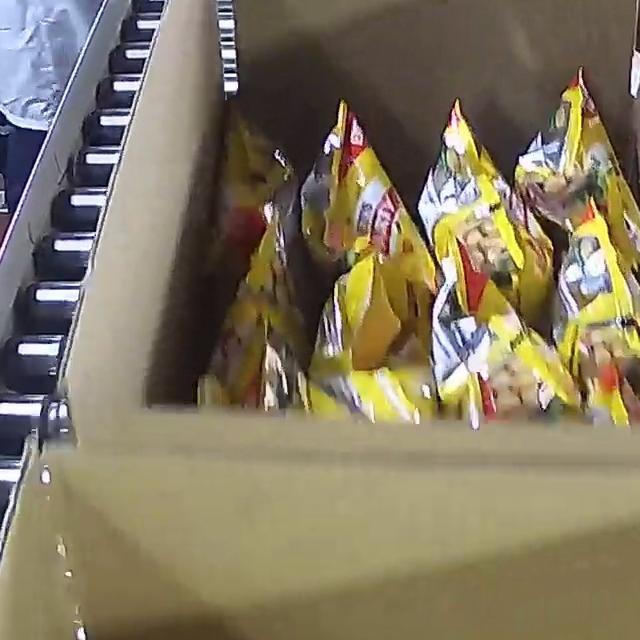salted: (195, 65, 640, 428)
